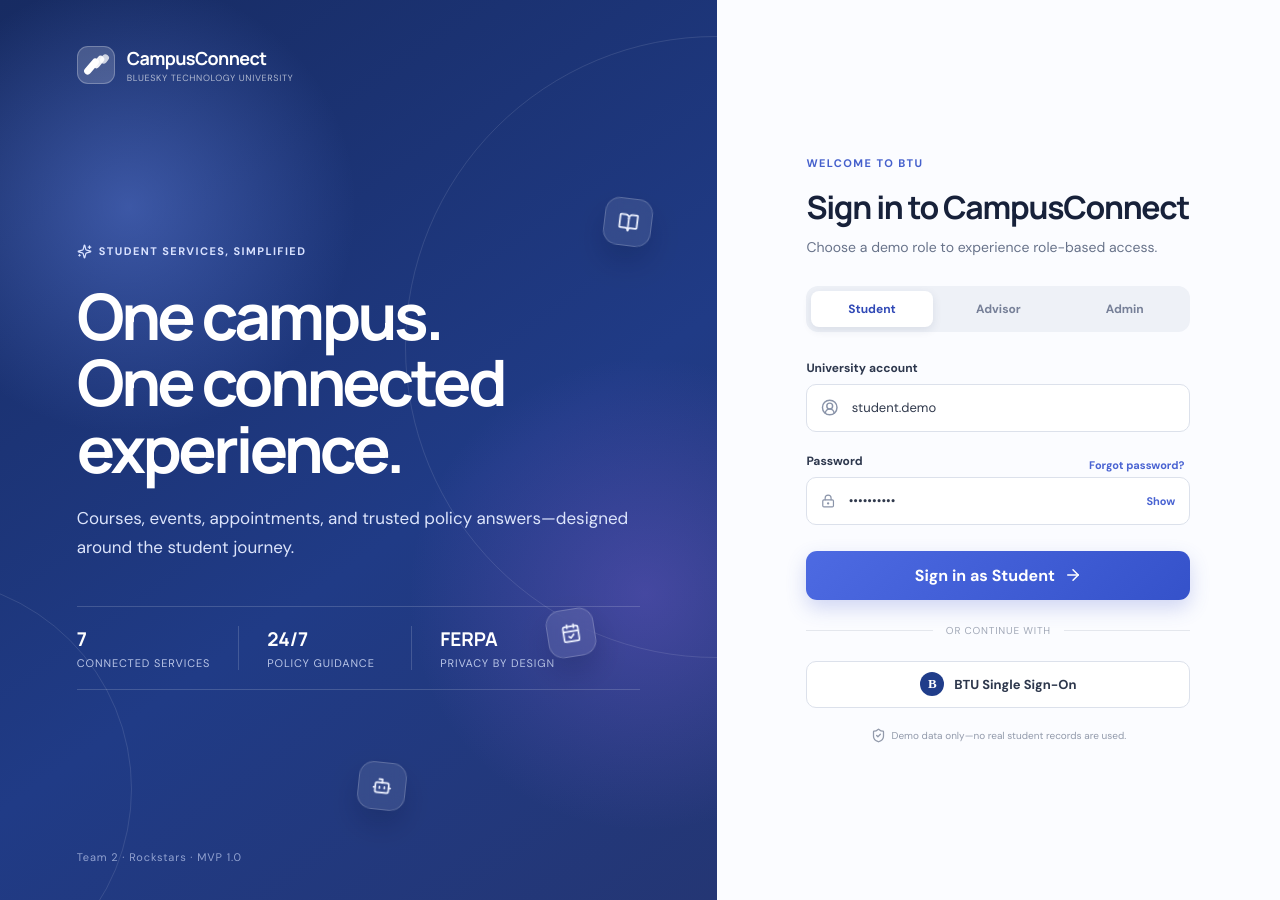
Test case: CampusConnect MVP › grants administrators access to observability and audit data
This screenshot has width=1280, height=900.
Click the button "Admin" at (1125, 308), box [1064, 290, 1185, 326]
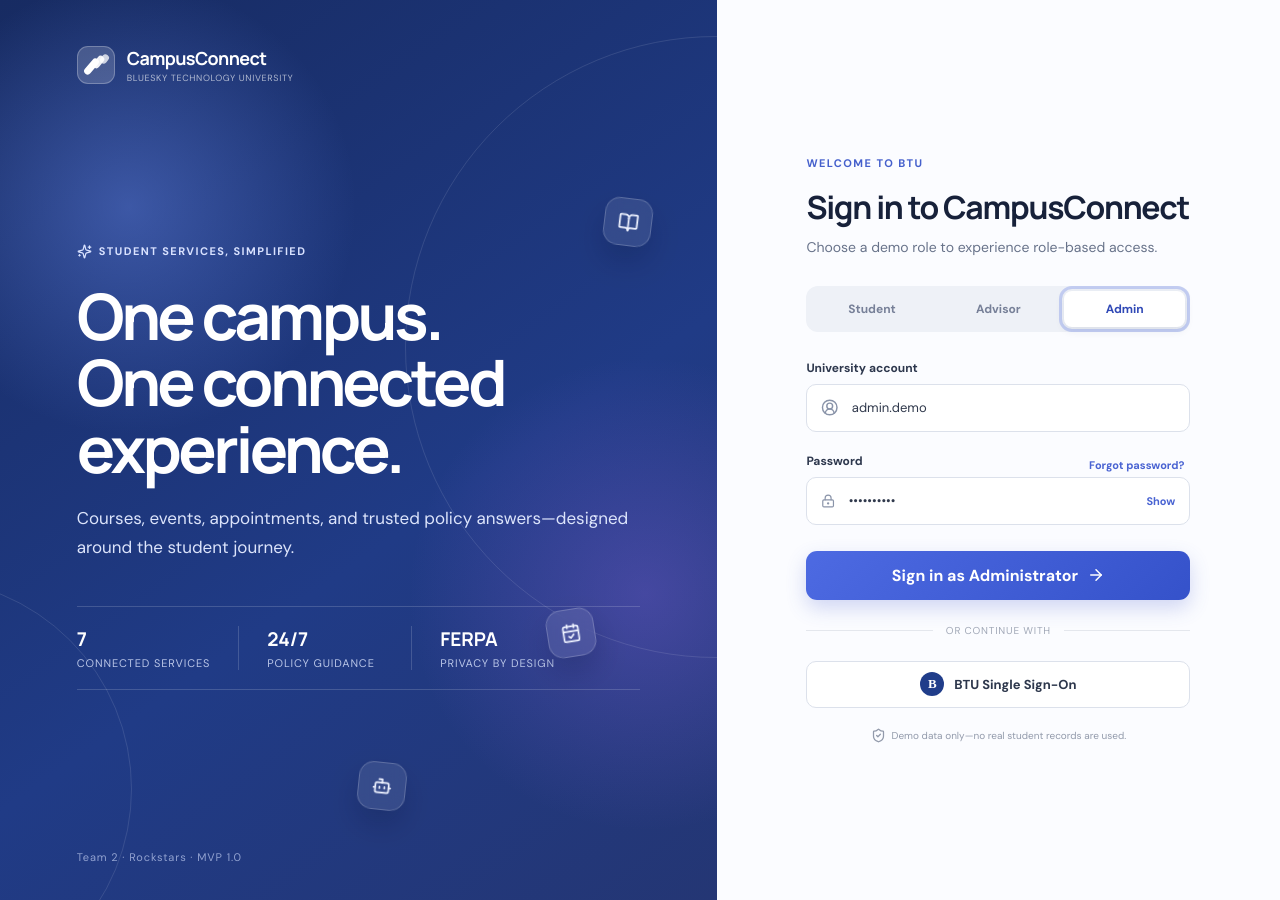
Click the button "Sign in as Administrator" at (998, 575), box [806, 550, 1190, 600]
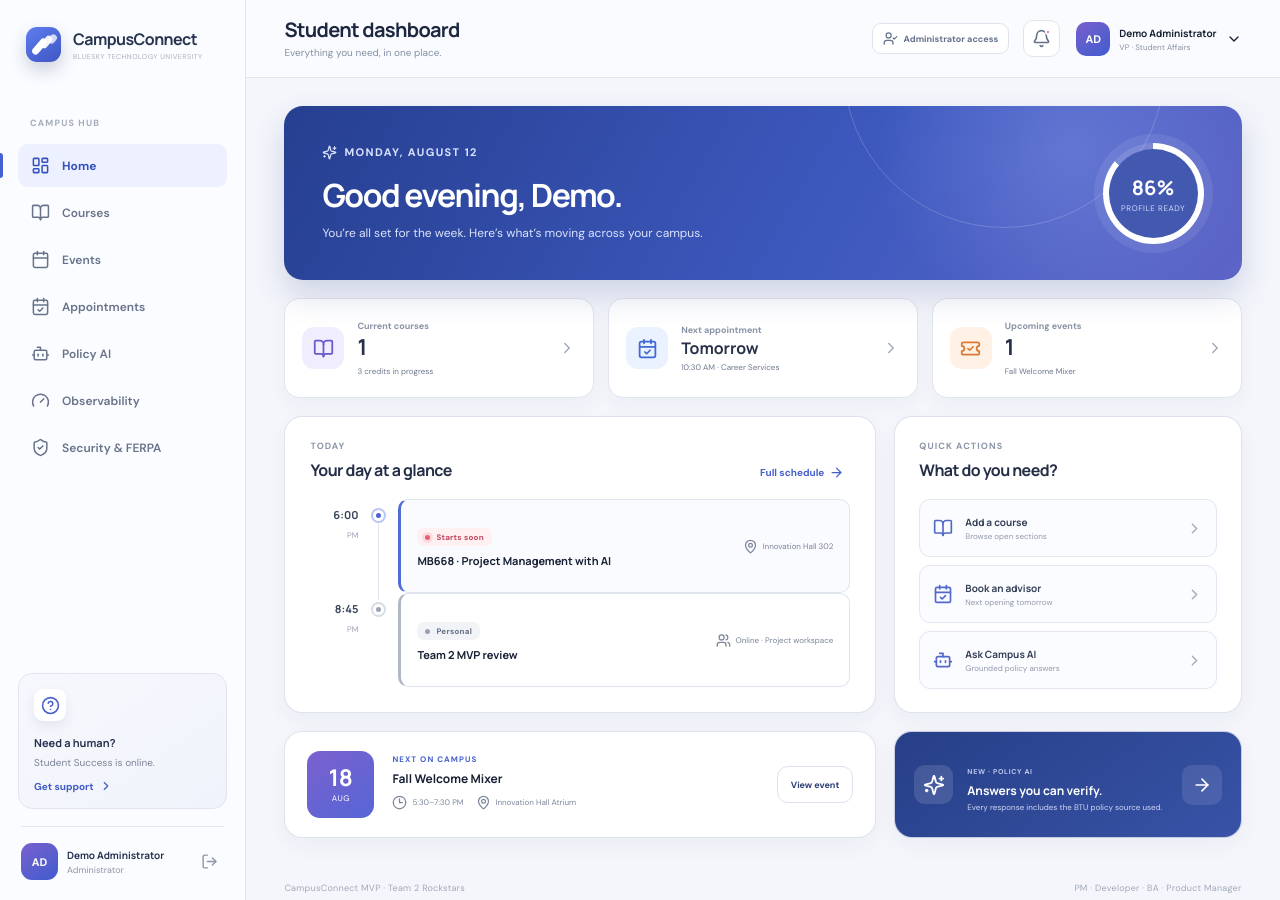
Click the button "Observability" at (122, 400), box [18, 379, 227, 422]
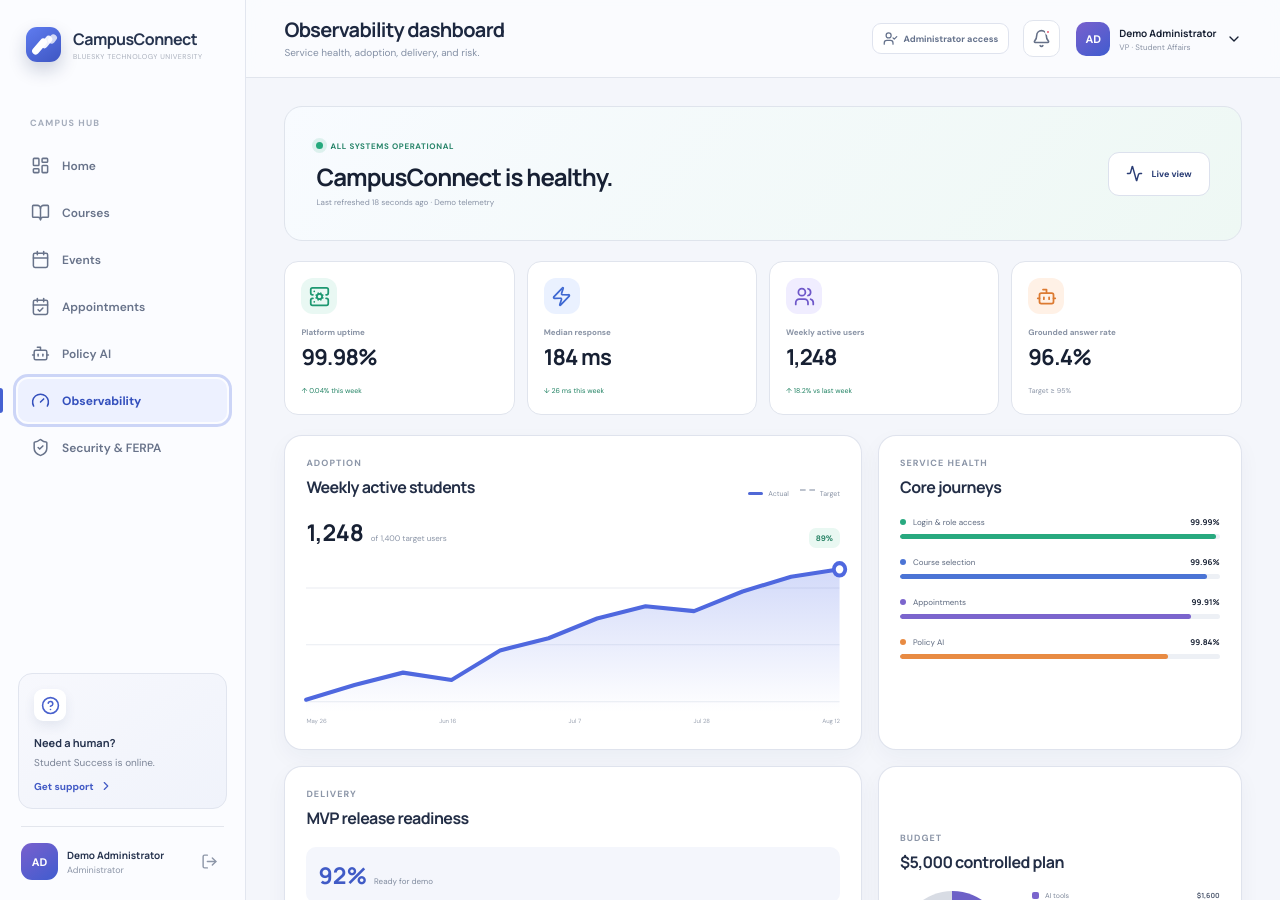
Expected: the heading "CampusConnect is healthy." is shown, [316, 160, 613, 192]
Expected: the text "99.98%" is shown, [301, 342, 377, 372]
Click the button "Security & FERPA" at (122, 448), box [18, 426, 227, 469]
(page scrolled)
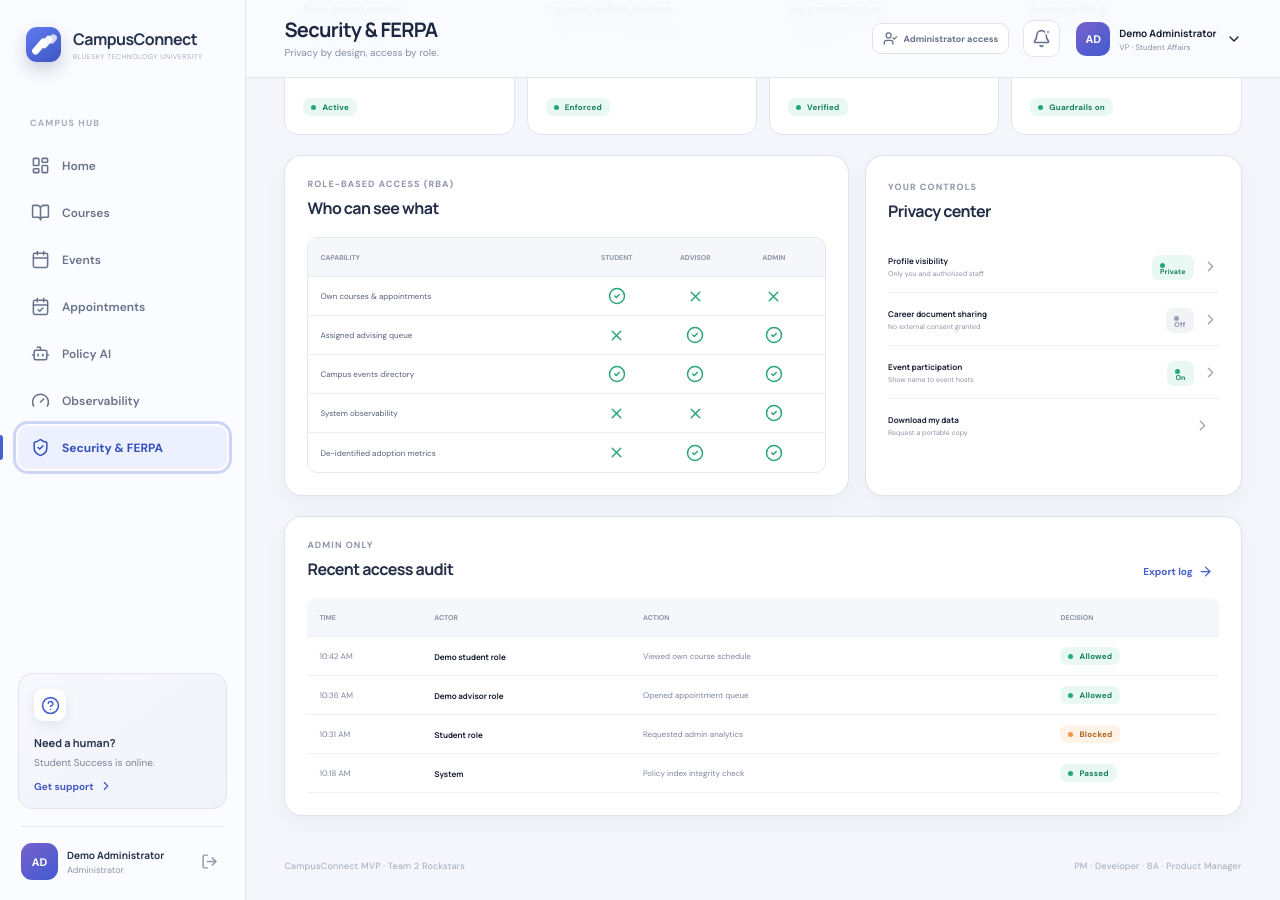
Expected: the heading "Recent access audit" is shown, [307, 558, 453, 580]
Expected: the text "Blocked" is shown, [1060, 725, 1120, 743]
